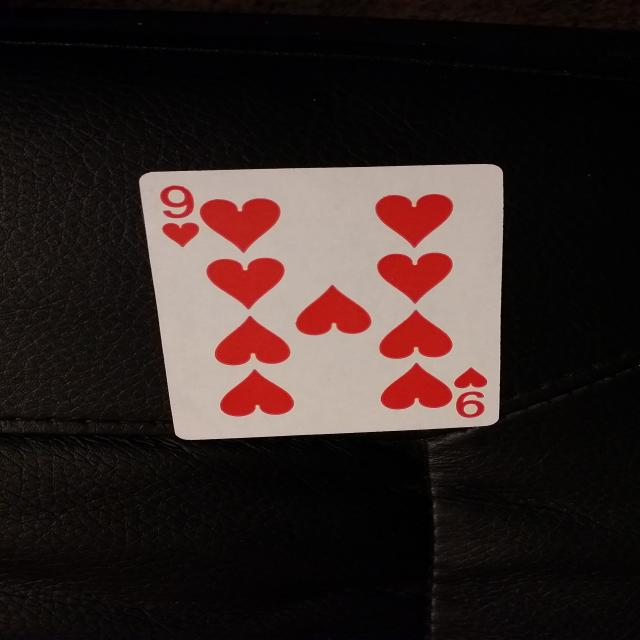9h: (144, 177, 216, 258), (417, 360, 501, 425)
